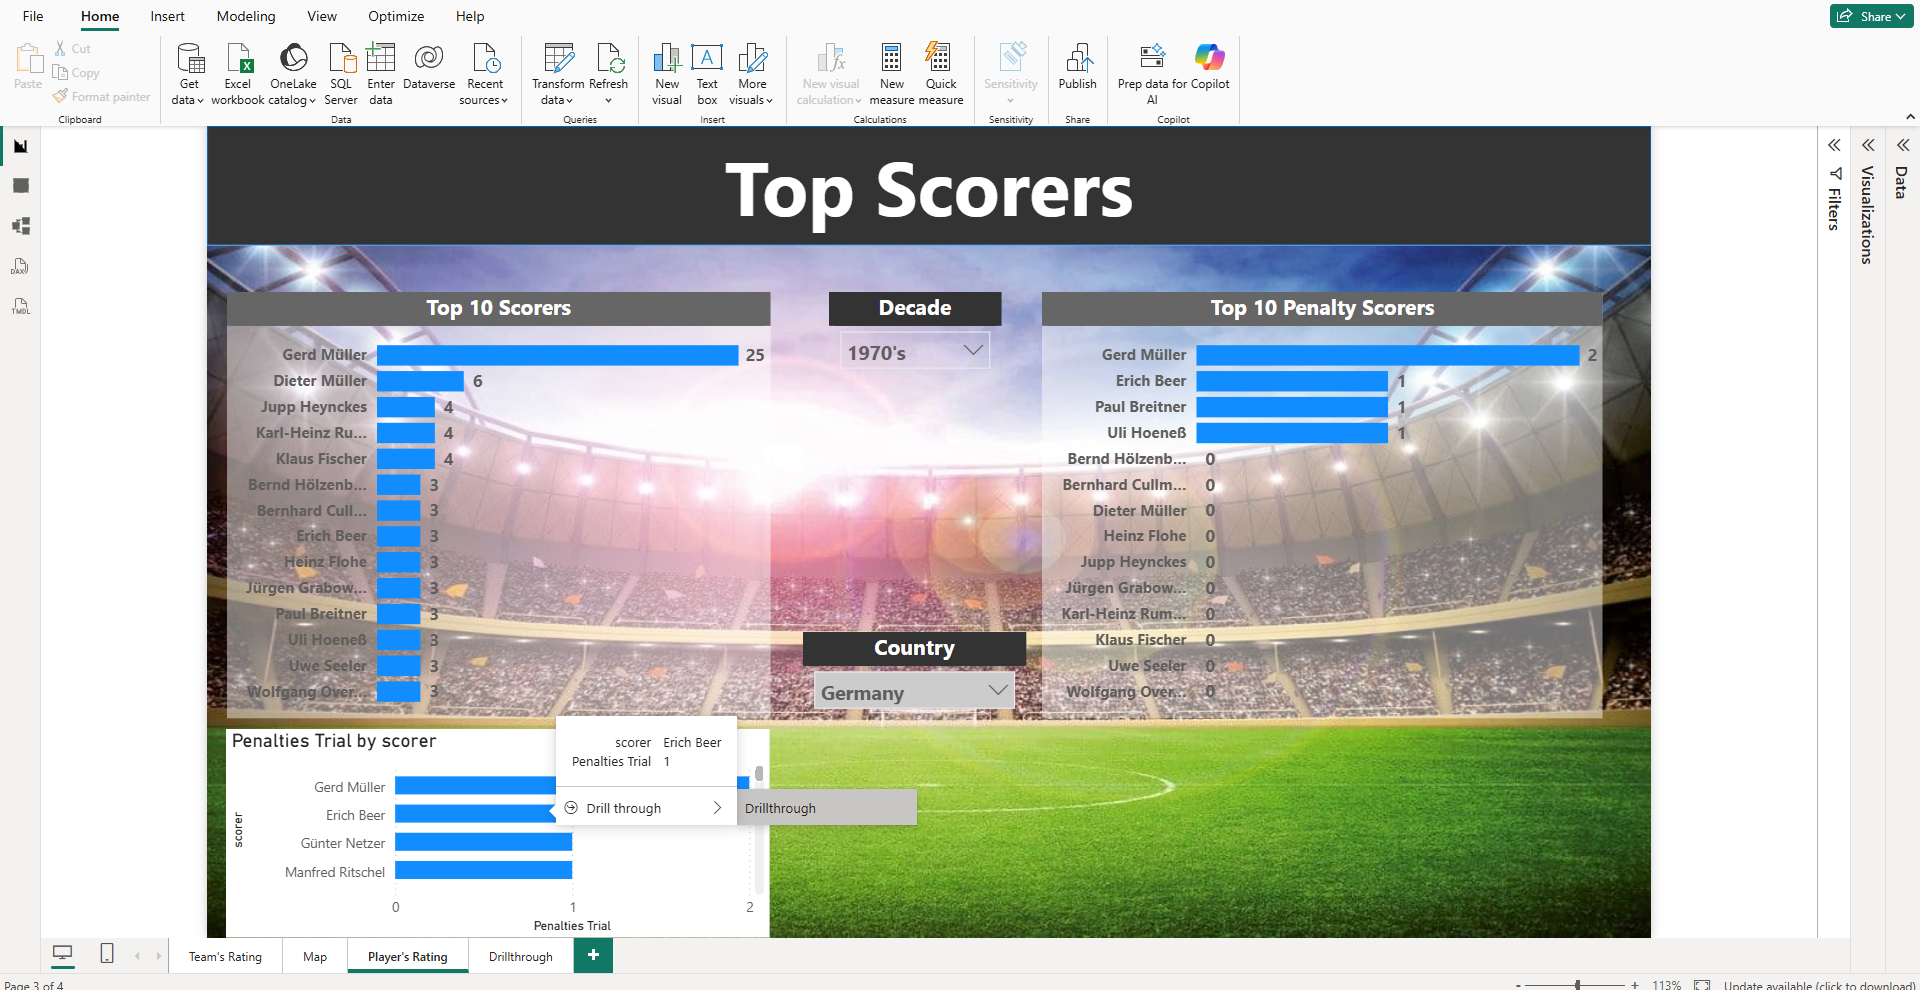

The page's visual inventory and layout, read from the dashboard file:
{"tool":"powerbi","page":{"name":"Player's Rating","canvas":[1280,720],"ordinal":2},"visuals":[{"type":"clusteredBarChart","title":"Top 10 Scorers ","fields":{"Category":["goalscorers.scorer"],"Y":["goalscorers.Top Scorers (Measure)"]},"box":[17.3,147.3,481.8,377.8],"z":0},{"type":"slicer","title":"Decade","fields":{"Values":["goalscorers.Year Bins"]},"box":[551.1,147.3,152.5,109.2],"z":1000},{"type":"shape","title":"Top Scorers","box":[0,0,1280.7,105.7],"z":2000},{"type":"clusteredBarChart","title":"Top 10 Penalty Scorers ","fields":{"Category":["goalscorers.scorer"],"Y":["goalscorers.Top Penalty Scorers"]},"box":[740,147.3,497.4,377.8],"z":3000},{"type":"slicer","title":"Country","fields":{"Values":["goalscorers.team"]},"box":[528.6,448.9,197.6,109.2],"z":4000},{"type":"clusteredBarChart","fields":{"Category":["goalscorers.scorer"],"Y":["goalscorers.Penalties Trial"]},"box":[17,535,482,185],"z":5000}]}

Visuals, with their boxes on the page's 1280x720 design canvas (x1, y1, x2, y2). These are canvas units, not pixel positions in the 1920x990 screenshot, which may show the page scaled, cropped or inside an application window:
"Top 10 Scorers " clusteredBarChart: (17,147,499,525)
"Decade" slicer: (551,147,704,256)
"Top Scorers" shape: (0,0,1281,106)
"Top 10 Penalty Scorers " clusteredBarChart: (740,147,1237,525)
"Country" slicer: (529,449,726,558)
clusteredBarChart - goalscorers.scorer x goalscorers.Penalties Trial: (17,535,499,720)
